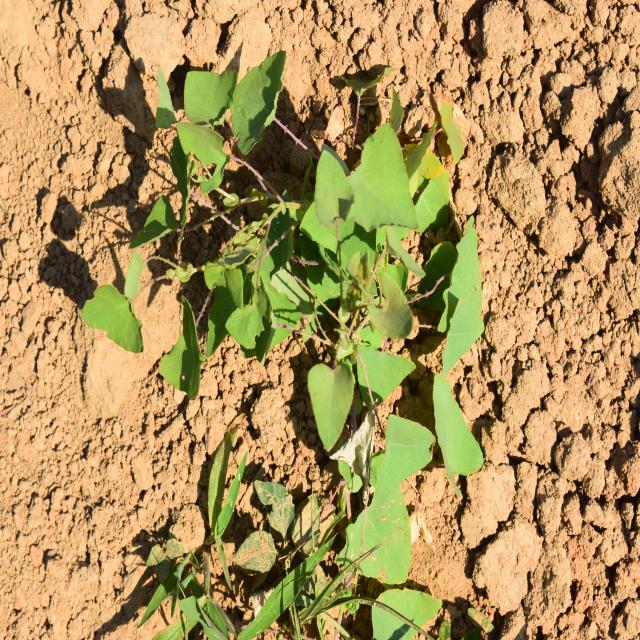Asiatic_Smartweed: (280, 123, 500, 450), (96, 47, 292, 377), (356, 372, 482, 577)
